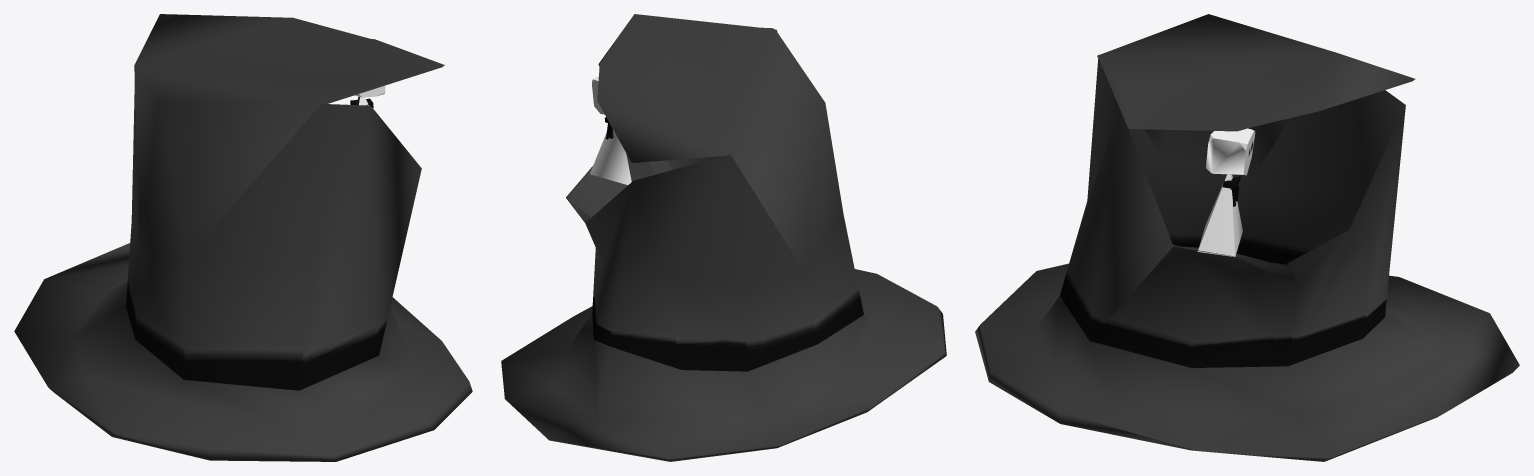
File: WorldItem_Gibus.fbx
3 renders of one model, left to right at view 1: azimuth 30°, elevation 25°; view 2: azimuth 150°, elevation 25°; view 3: azimuth 270°, elevation 25°, orthographic. The views are drawn at different scales.
Visible parts, largest first — view 1: Gibus2; view 2: Gibus2; view 3: Gibus2.
Boxes of the visible parts, box(x1,y1,x2,y2) form: Gibus2: box(14, 14, 472, 461); Gibus2: box(501, 14, 946, 461); Gibus2: box(975, 14, 1519, 461).
Size of the model in its own units: 0.1743 by 0.1413 by 0.2184.
